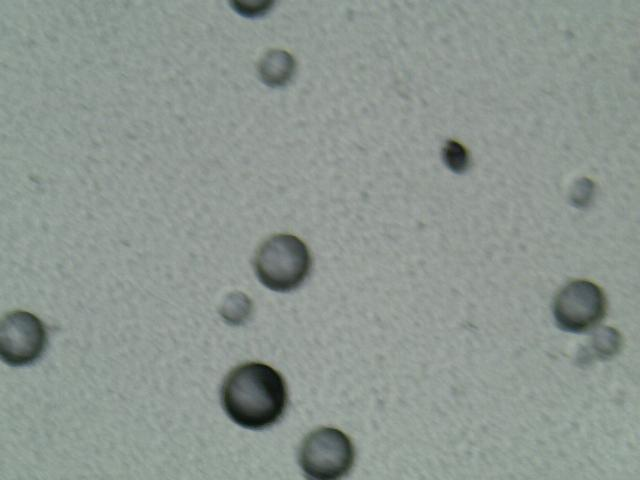radon: (214, 351, 288, 438), (246, 227, 311, 296), (552, 274, 610, 335), (294, 425, 354, 480), (1, 299, 57, 355), (251, 44, 303, 92), (558, 169, 601, 214), (211, 285, 253, 329)
